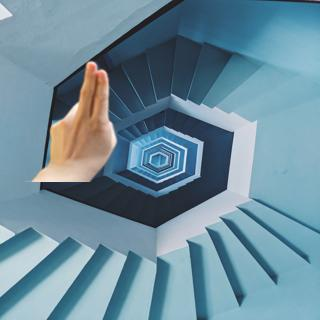DHAVE: (44, 56, 121, 173)
